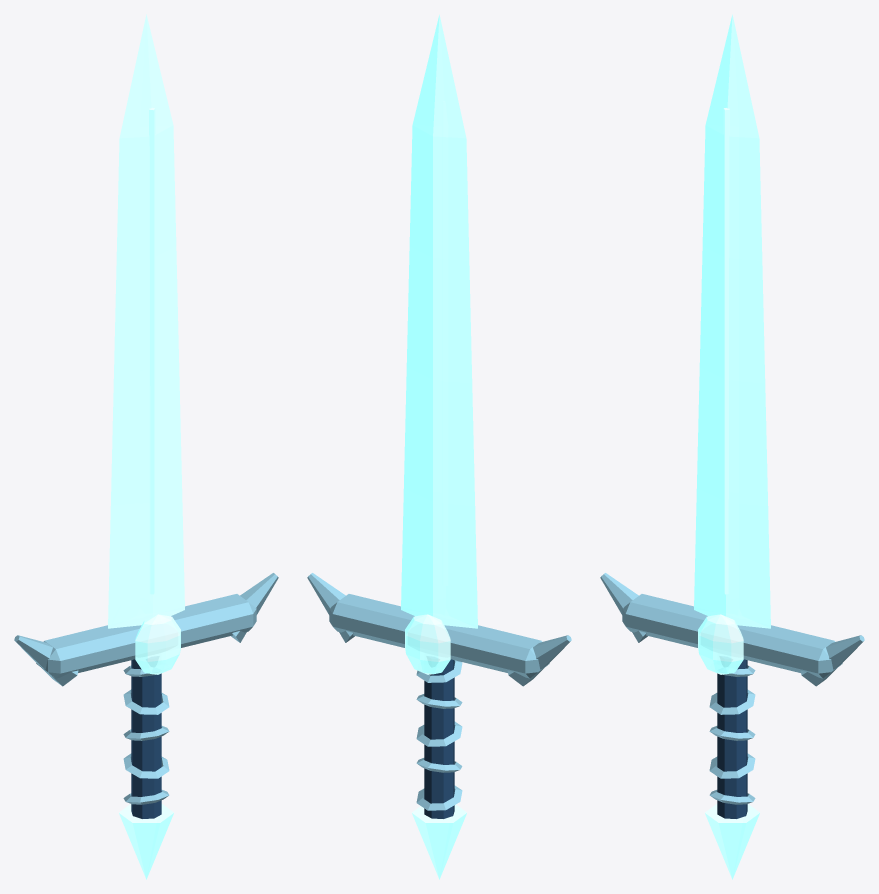
File: weapon_sword_glacier_v01.glb
3 renders of one model, left to right at view 1: azimuth 30°, elevation 25°; view 2: azimuth 150°, elevation 25°; view 3: azimuth 330°, elevation 25°, orthographic.
Visible parts, largest first — view 1: weapon_sword_glacier; view 2: weapon_sword_glacier; view 3: weapon_sword_glacier.
Boxes of the visible parts, <box> form: weapon_sword_glacier: <box>14,14,278,879</box>; weapon_sword_glacier: <box>307,14,571,879</box>; weapon_sword_glacier: <box>600,14,864,879</box>.
Bounding box in the file's own units: 0.327 × 1.03 × 0.0842.
